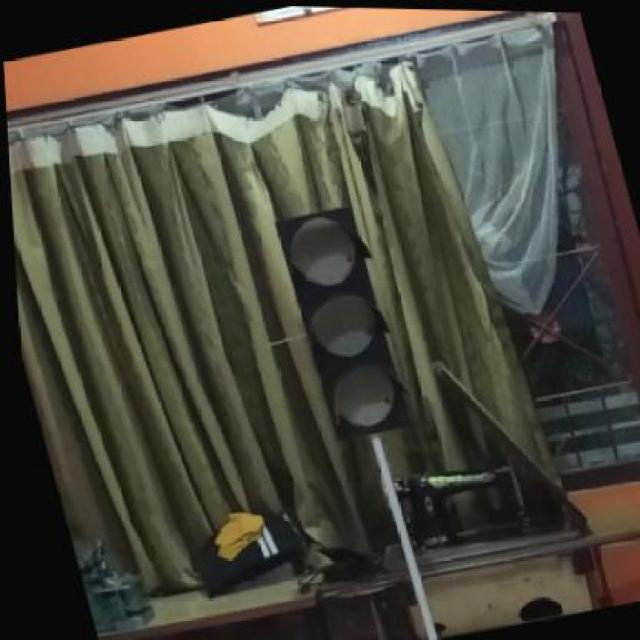green_light: (267, 199, 407, 439)
